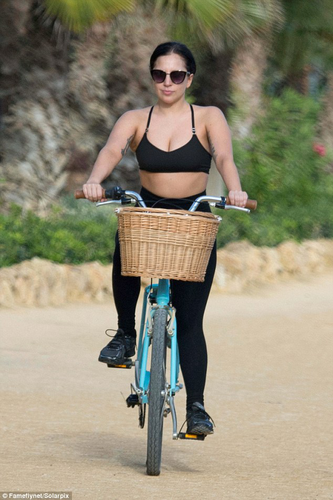bikerider: (71, 37, 263, 486)
